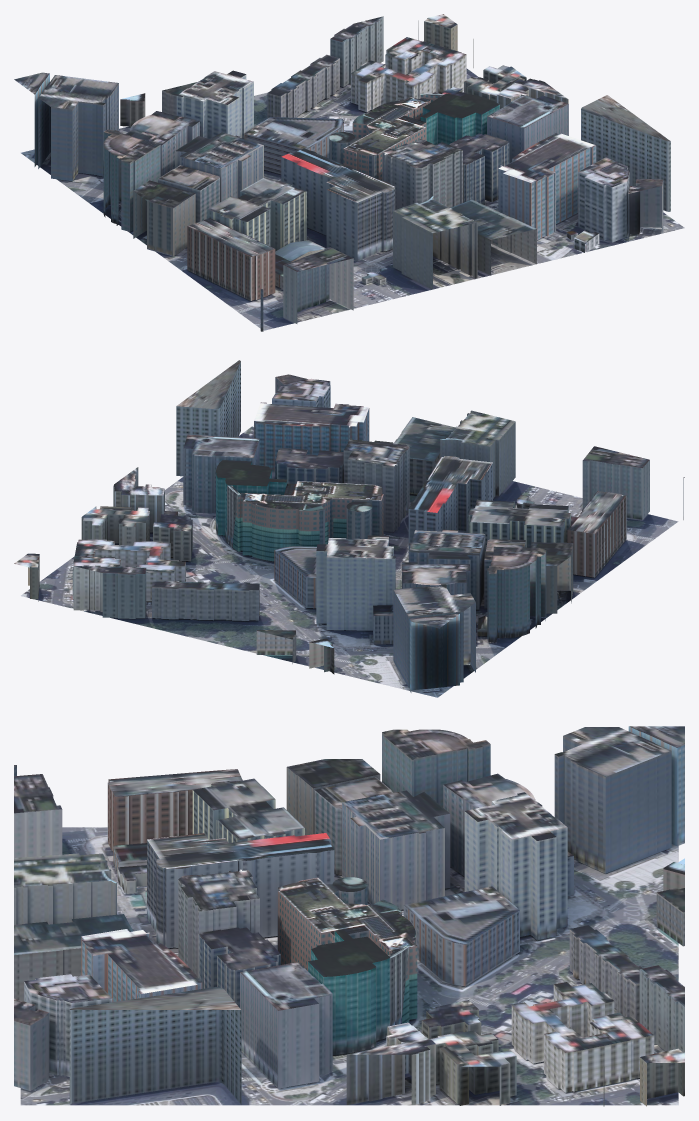
3 views of the same model, one above another, from view 1: azimuth 30°, elevation 25°; view 2: azimuth 150°, elevation 25°; view 3: azimuth 270°, elevation 25° (orthographic). The views are drawn at different scales.
Parts seen in each view (by area): view 1: Buildings, Ground, Hero; view 2: Buildings, Ground, Hero; view 3: Buildings, Ground, Hero.
Part boxes in pixels (box(x1,y1,x2,y2)): Buildings: box(14, 14, 670, 331); Ground: box(21, 64, 684, 330); Hero: box(343, 93, 437, 180); Buildings: box(14, 360, 684, 692); Ground: box(21, 425, 678, 697); Hero: box(233, 481, 383, 561); Buildings: box(14, 726, 684, 1106); Ground: box(20, 827, 678, 1105); Hero: box(278, 877, 417, 1023).
Bounding box in the file's own units: 306 × 50.71 × 306.
Materials: 3 (3 with a texture image).
